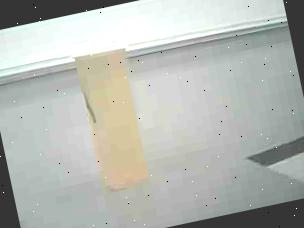Bottle A: (66, 32, 161, 201)
